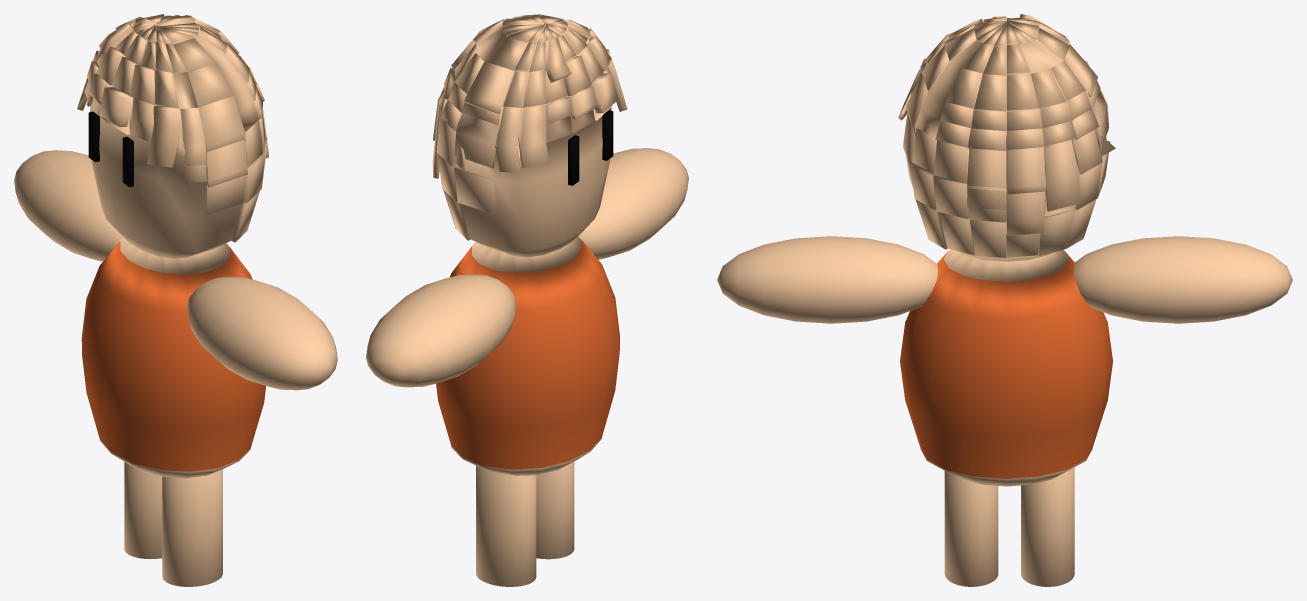
Rendered from karakterTest.glb.
3 views of the same model, side by side, from view 1: azimuth 30°, elevation 25°; view 2: azimuth 150°, elevation 25°; view 3: azimuth 270°, elevation 25° (orthographic).
Visible parts, largest first — view 1: base; view 2: base; view 3: base.
Part boxes in pixels (left/top/right/bottom): base: left=14, top=14, right=337, bottom=586; base: left=366, top=14, right=688, bottom=586; base: left=717, top=14, right=1292, bottom=586.
Bounding box in the file's own units: 0.5085 × 1.66 × 1.58.
